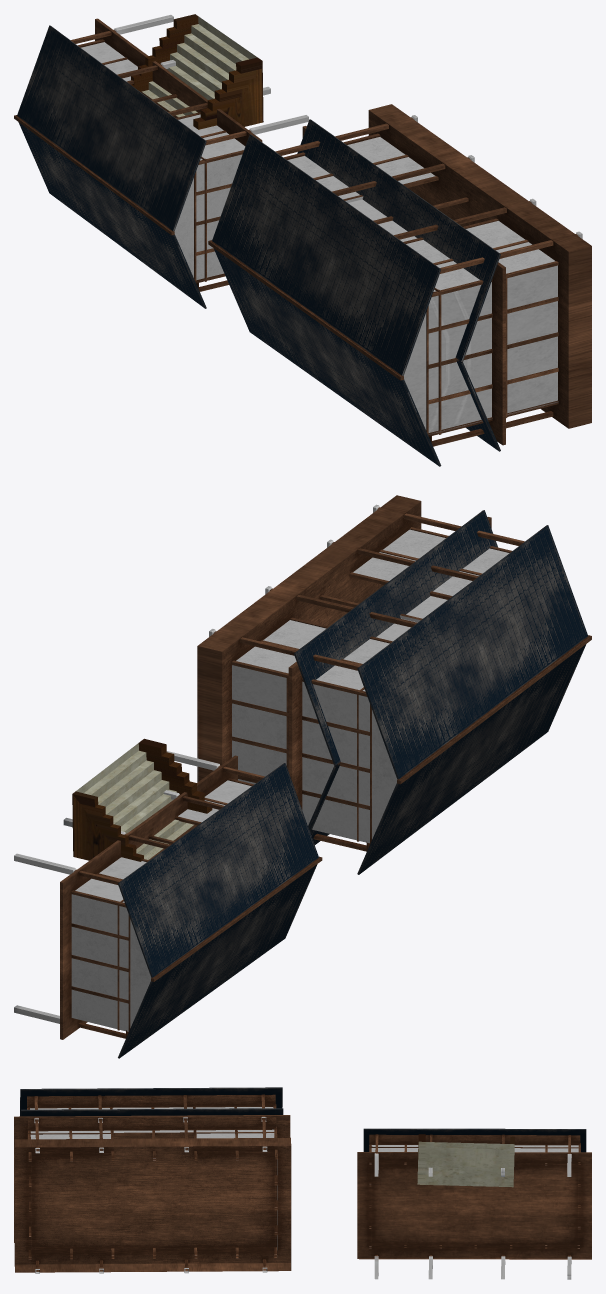
The model's file is Model_AsianHousePair.glb.
3 renders of one model, top to bottom at view 1: azimuth 30°, elevation 25°; view 2: azimuth 150°, elevation 25°; view 3: azimuth 270°, elevation 25°, orthographic. The views are drawn at different scales.
Visible parts, largest first — view 1: pCube52_lambert1_0.002_7.001, pCube52_lambert1_0.019_6.001; view 2: pCube52_lambert1_0.002_7.001, pCube52_lambert1_0.019_6.001; view 3: pCube52_lambert1_0.002_7.001, pCube52_lambert1_0.019_6.001.
Part boxes in pixels (x1,y1,x2,y2): pCube52_lambert1_0.002_7.001: (208,104,591,466); pCube52_lambert1_0.019_6.001: (14,14,308,308); pCube52_lambert1_0.002_7.001: (197,495,591,874); pCube52_lambert1_0.019_6.001: (14,738,322,1058); pCube52_lambert1_0.002_7.001: (14,1087,291,1273); pCube52_lambert1_0.019_6.001: (357,1128,591,1279).
Bounding box in the file's own units: 2.8 × 2.96 × 9.98.
Materials: 4 (4 with a texture image).
